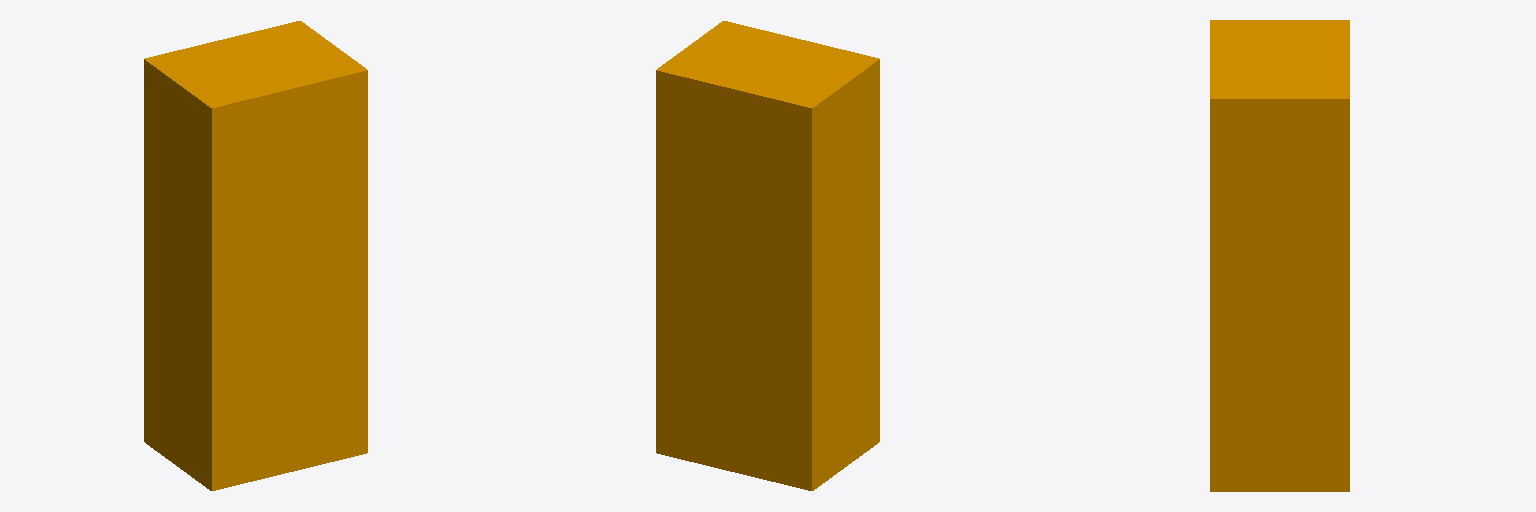
URDF robot description (shopping-jodsalz-salt-box):
<?xml version="1.0" ?>
<robot name="shopping-jodsalz-salt-box" xmlns:xacro="http://www.ros.org/wiki/xacro">
  <link name="link">
    <visual>
      <origin rpy="0 0 0" xyz="0 0 0"/>
      <geometry>
        <box size="0.06 0.045 0.14"/>
      </geometry>
      <material name="Gazebo/BlueGlow"/>
    </visual>
    <collision>
      <origin rpy="0 0 0" xyz="0 0 0"/>
      <contact_coefficients mu="1.0"/>
      <geometry>
        <box size="0.06 0.045 0.14"/>
      </geometry>
      <surface>
        <friction>
          <ode>
            <mu>1</mu>
            <mu2>1</mu2>
          </ode>
        </friction>
      </surface>
    </collision>
    <inertial>
      <mass value="0.51"/>
      <inertia ixx="0.0009190625" ixy="0" ixz="0" iyy="0.000986" iyz="0" izz="0.0002390625"/>
    </inertial>
  </link>
  <gazebo reference="link">
    <material>Gazebo/BlueGlow</material>
  </gazebo>
</robot>

--- What the picture shows (computed from the rendered views, not written in the file) ---
The picture shows the robot from 3 angles, left to right: view 1: azimuth 30°, elevation 25°; view 2: azimuth 150°, elevation 25°; view 3: azimuth 270°, elevation 25°; orthographic projection.
Model shopping-jodsalz-salt-box with 1 links and 0 joints (none), rooted at link, posed every joint at zero.
Links seen in each view (by area): view 1: link; view 2: link; view 3: link.
Link boxes in pixels (<box>): link: <box>144,21,367,490</box>; link: <box>656,21,879,490</box>; link: <box>1210,20,1349,491</box>.
Size in the robot's own frame: 0.06 by 0.045 by 0.14 metres.
Geometry: primitives only (box / cylinder / sphere), no mesh files.